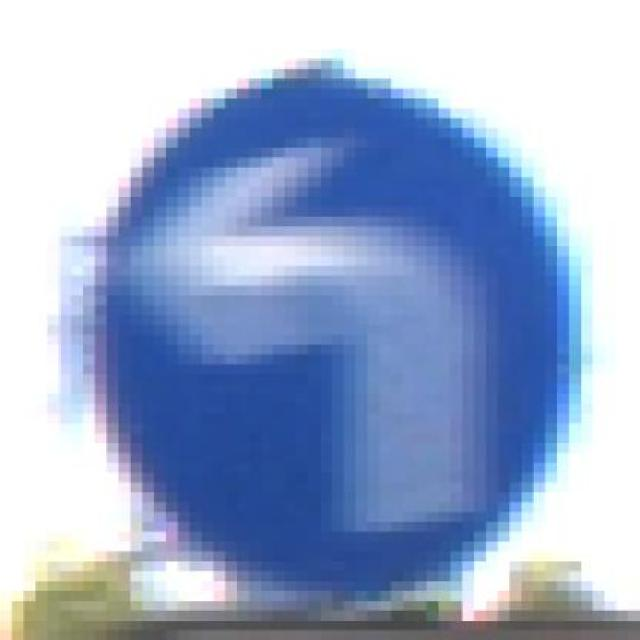Turn left ahead: (48, 59, 604, 610)
